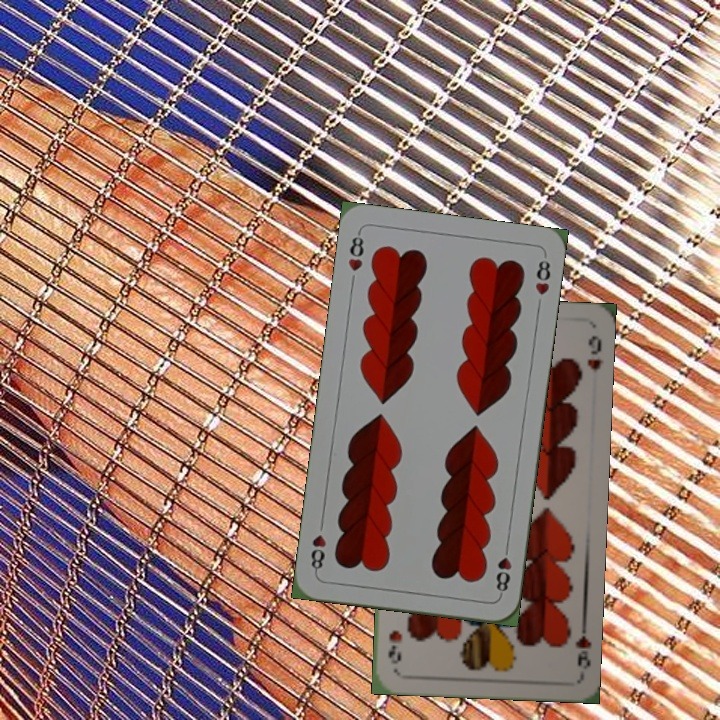H8: (492, 539, 515, 598), (344, 228, 366, 274)
H9: (571, 617, 593, 672)
